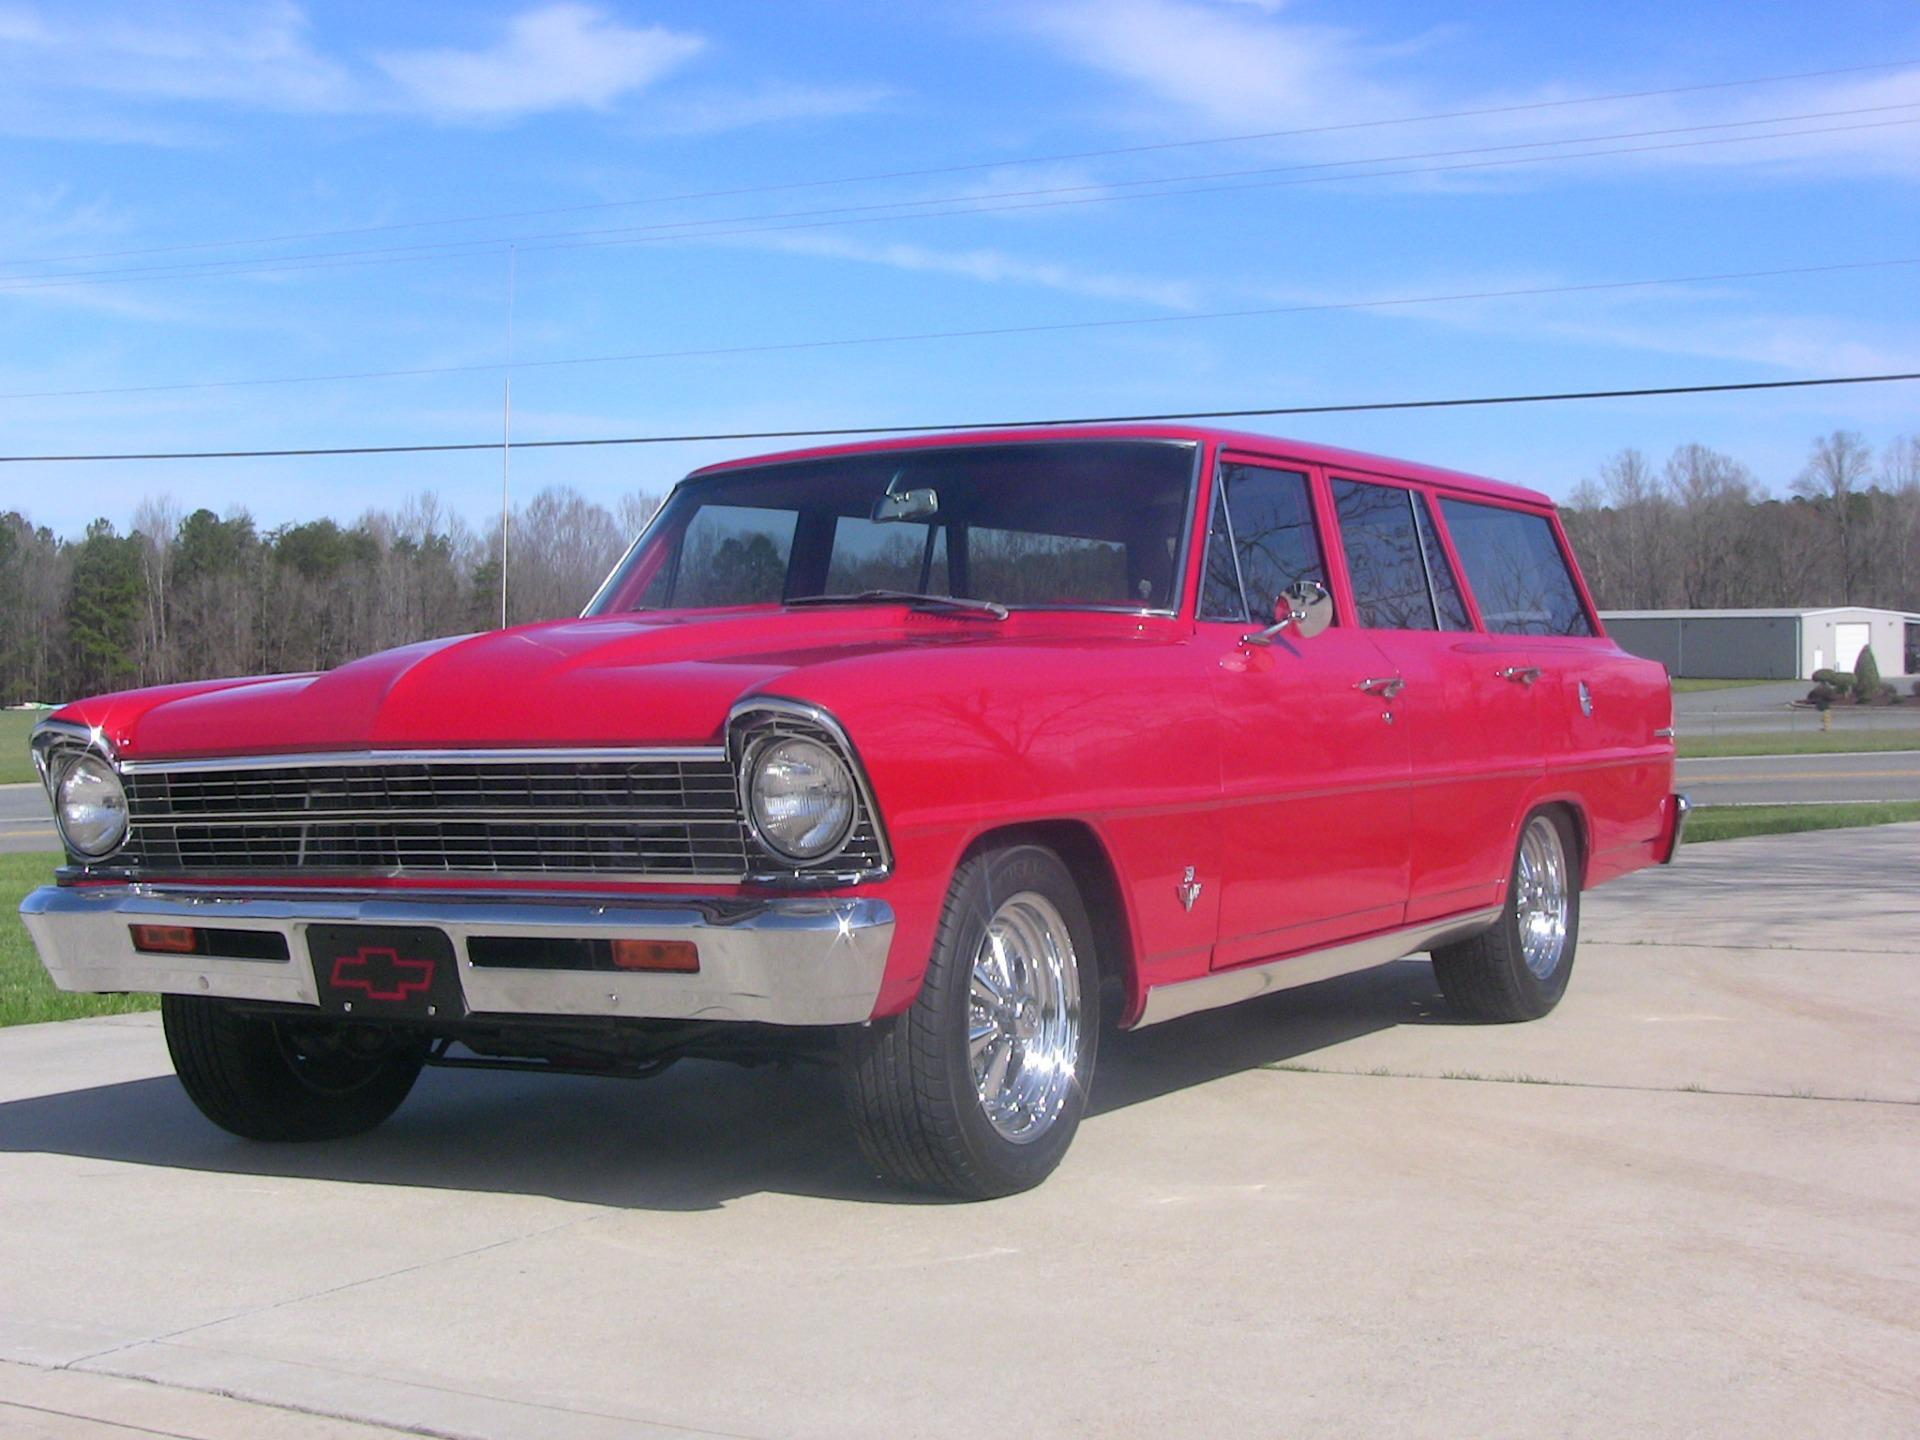car: (50, 396, 1695, 1212)
